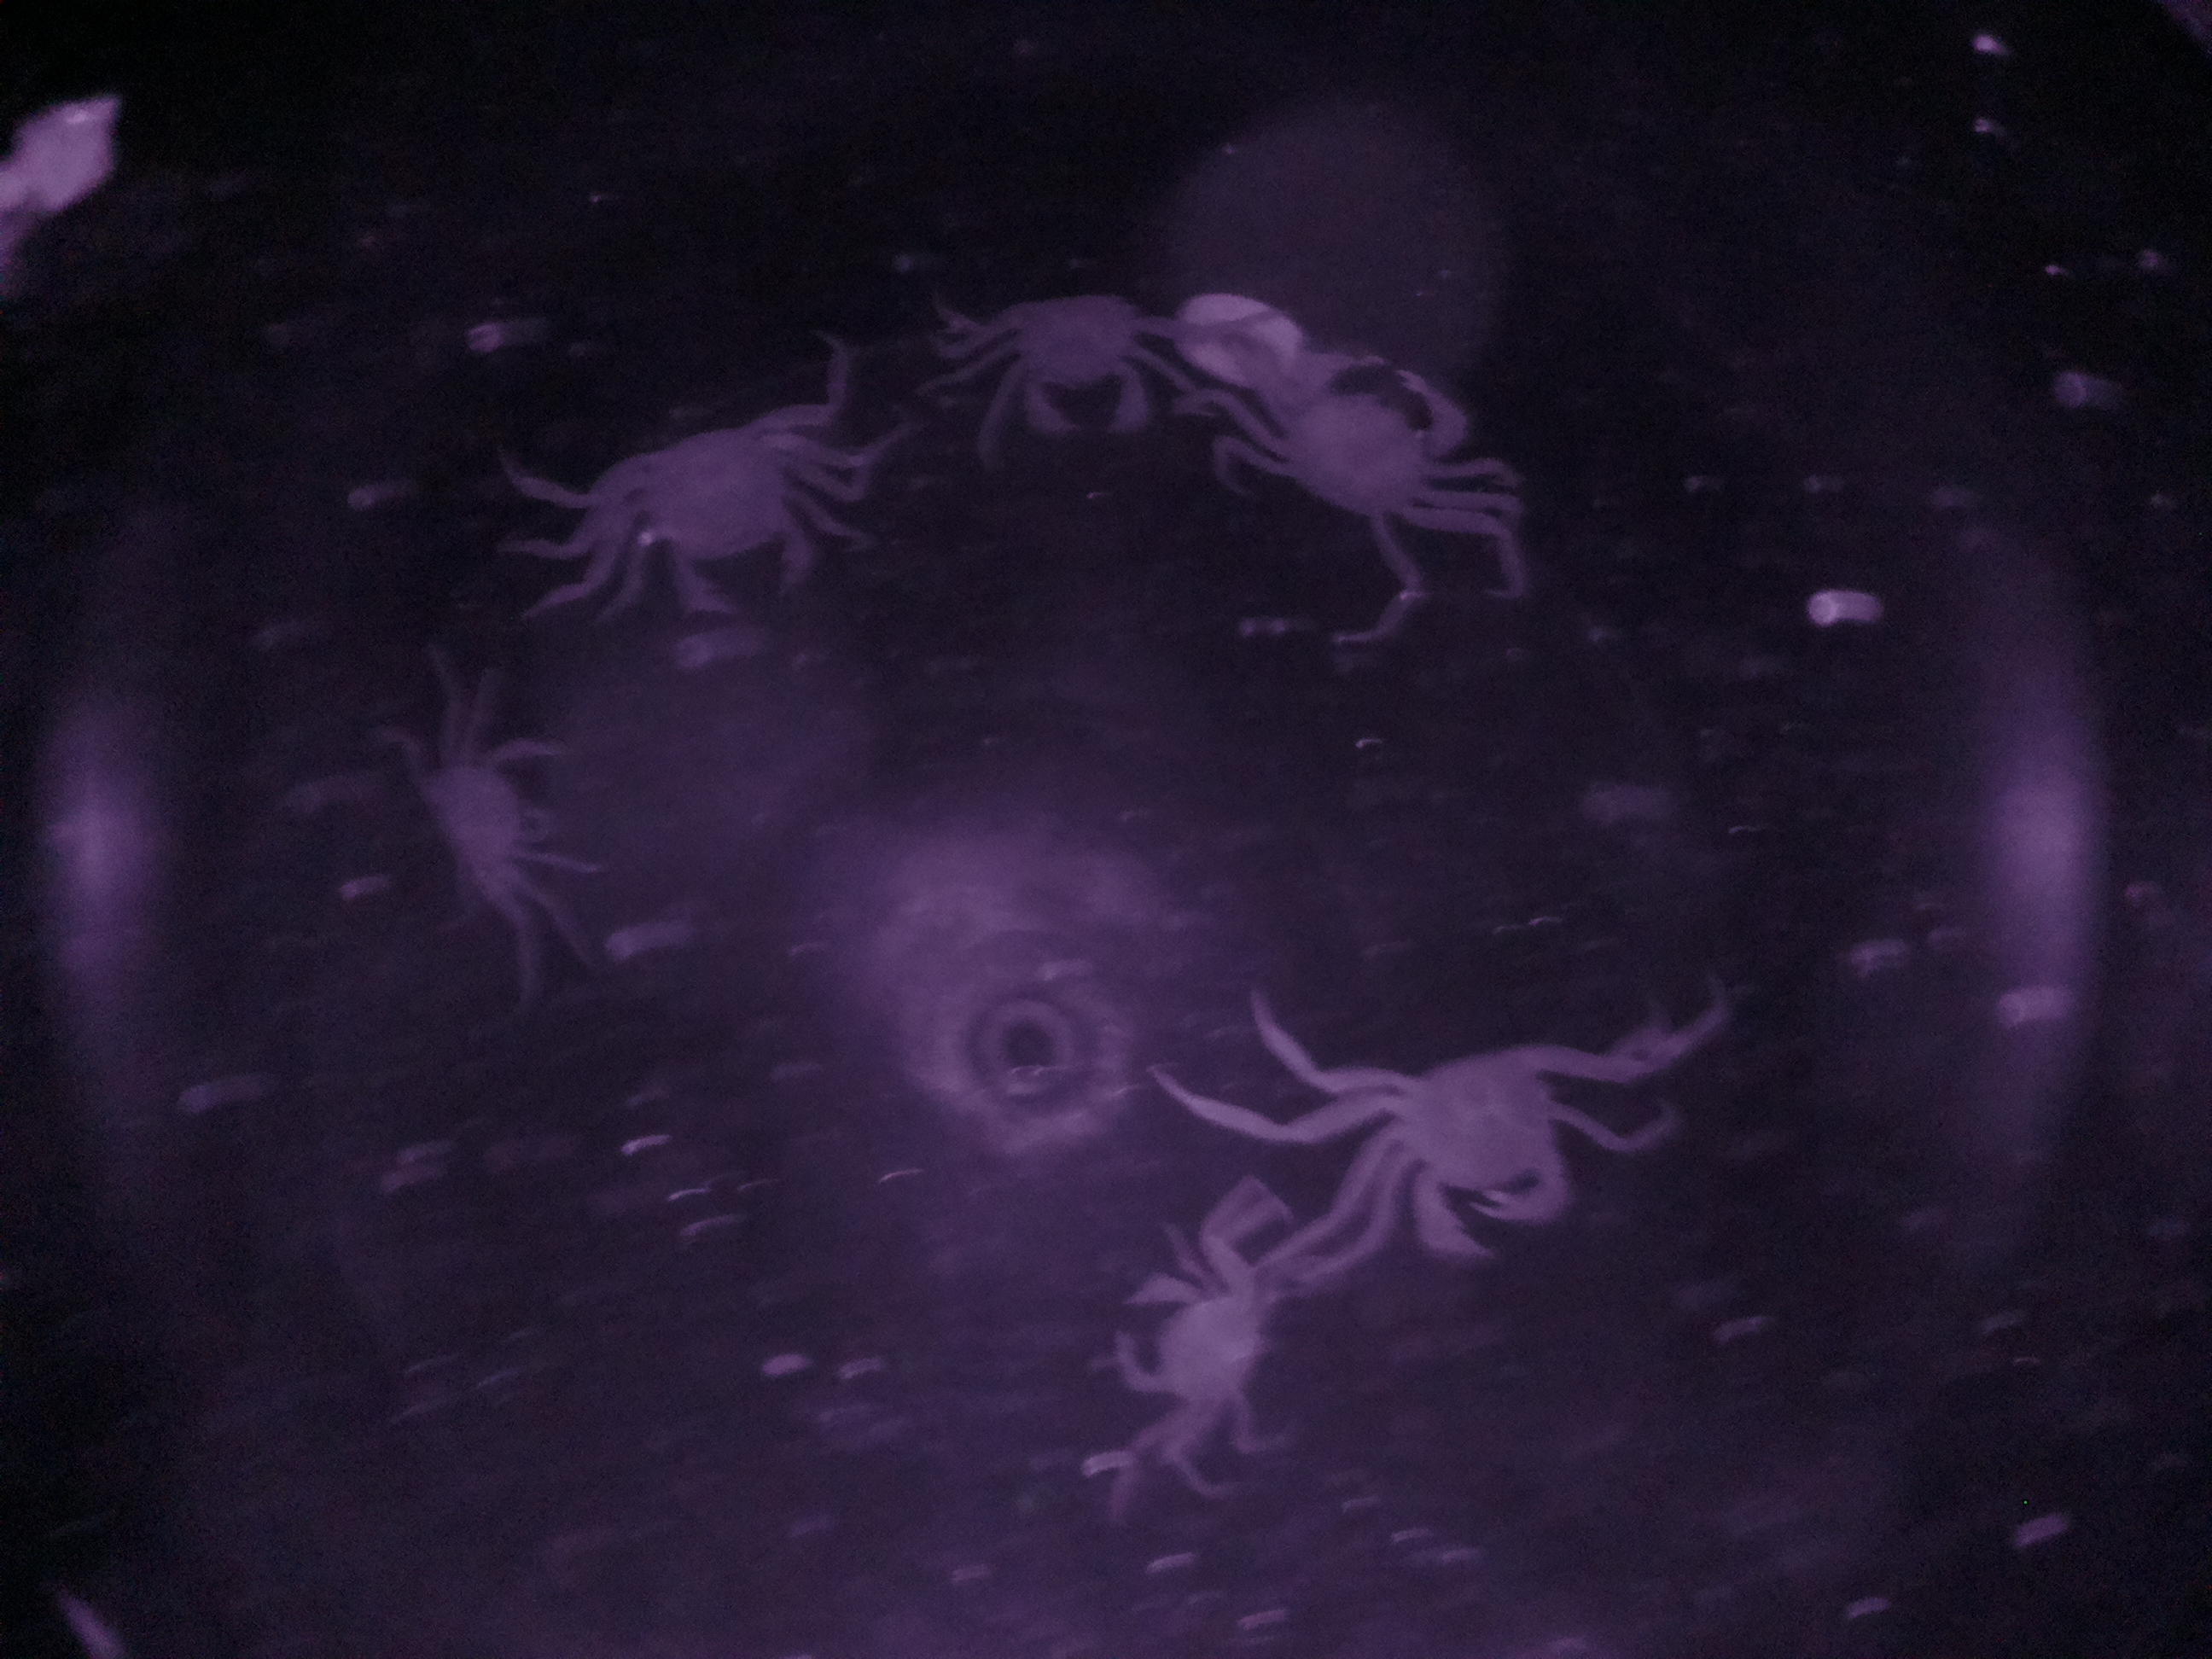Crab: (1332, 1011, 1623, 1272), (1244, 326, 1500, 549), (1080, 1222, 1308, 1464)
